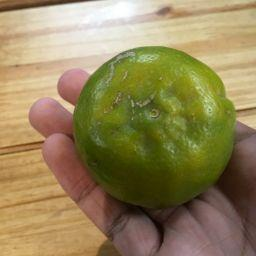Ripe: (77, 50, 233, 198)
